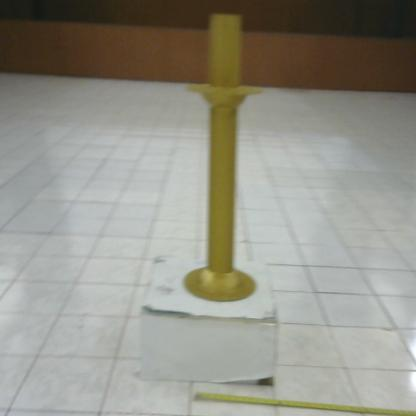pole: (172, 8, 263, 311)
